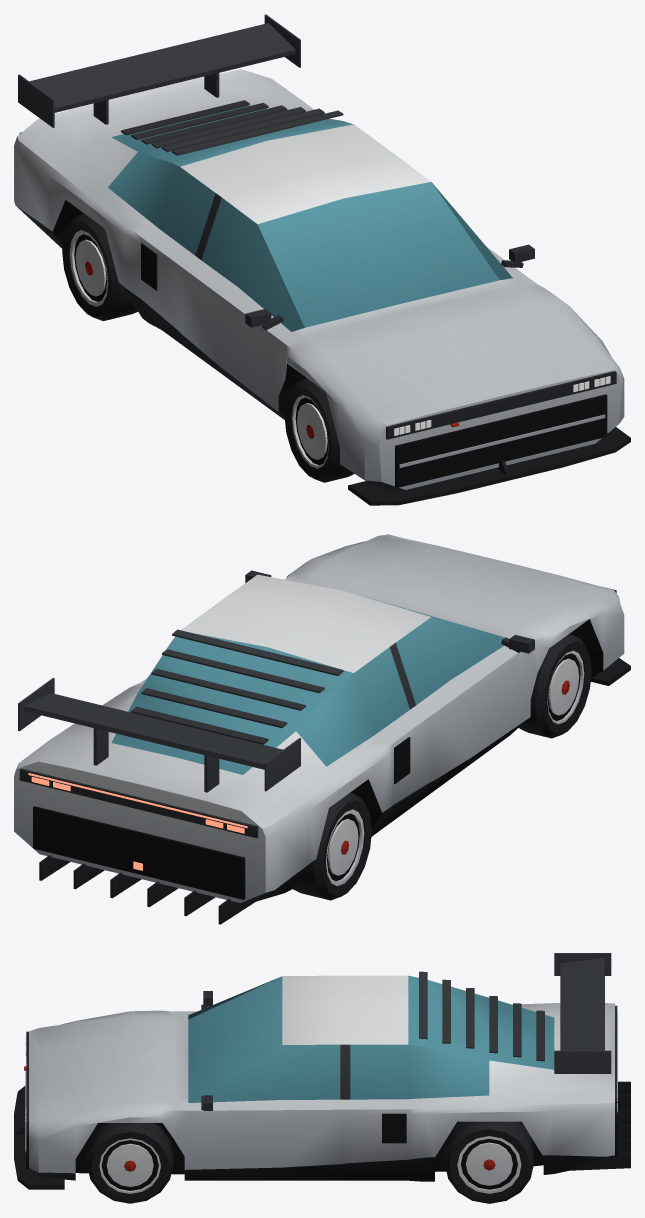
Rendered from Vision74.fbx.
3 views of the same model, one above another, from view 1: azimuth 30°, elevation 25°; view 2: azimuth 150°, elevation 25°; view 3: azimuth 270°, elevation 25° (orthographic). The views are drawn at different scales.
Parts seen in each view (by area): view 1: body, wheel-back-right, wheel-front-right; view 2: body, wheel-back-right, wheel-front-right; view 3: body, wheel-back-left, wheel-front-left.
Boxes of the visible parts, box(x1,y1,x2,y2) form: body: box(14, 14, 630, 505); wheel-back-right: box(62, 213, 137, 321); wheel-front-right: box(284, 378, 354, 482); body: box(14, 534, 630, 924); wheel-back-right: box(292, 793, 371, 900); wheel-front-right: box(519, 634, 591, 738); body: box(14, 953, 630, 1189); wheel-back-left: box(444, 1121, 533, 1203); wheel-front-left: box(87, 1123, 173, 1203).
Size of the model in its own units: 2.15 by 1.36 by 4.99.
3 materials, 1 textured.
